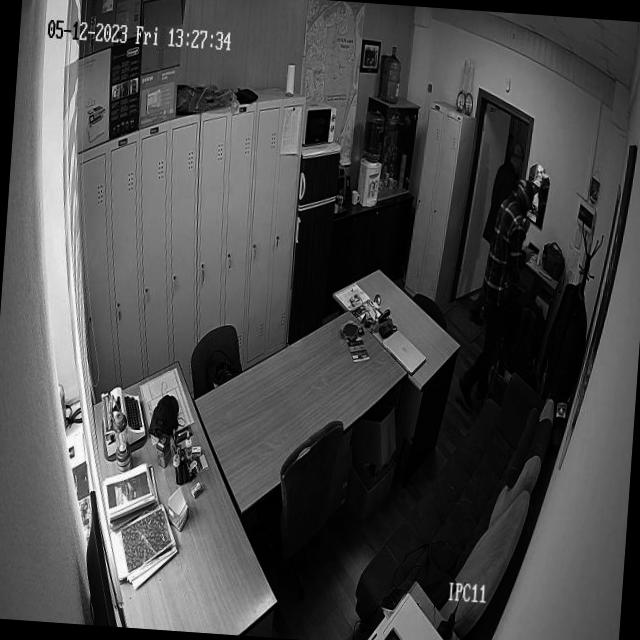gun: (522, 236, 542, 262)
person with a gun: (464, 174, 549, 387)
